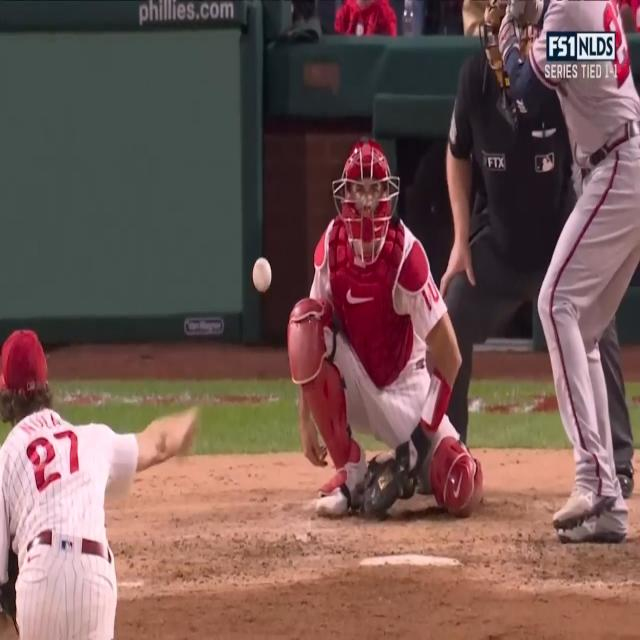baseball: (252, 257, 273, 294)
